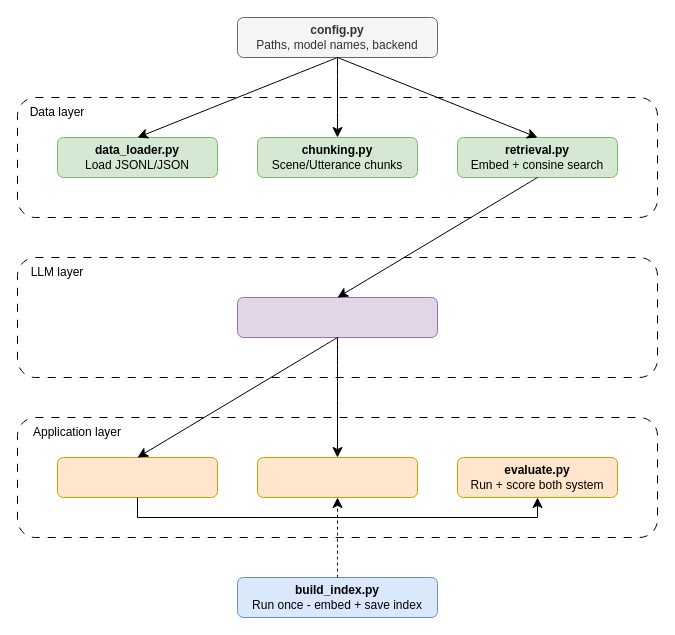
This 675x635 diagram has some shape labels left out. The shapes that lost their labels are listed below. From the top down, each one's box as (x1, y1, x2, y2) in pixels, then its label:
(236, 296, 438, 338): llm.py Ollama local/Anthropic API
(56, 456, 218, 498): rag_chatbot.py Full RAG pipeline
(256, 456, 418, 498): baseline.py No retrieval, LLM only
